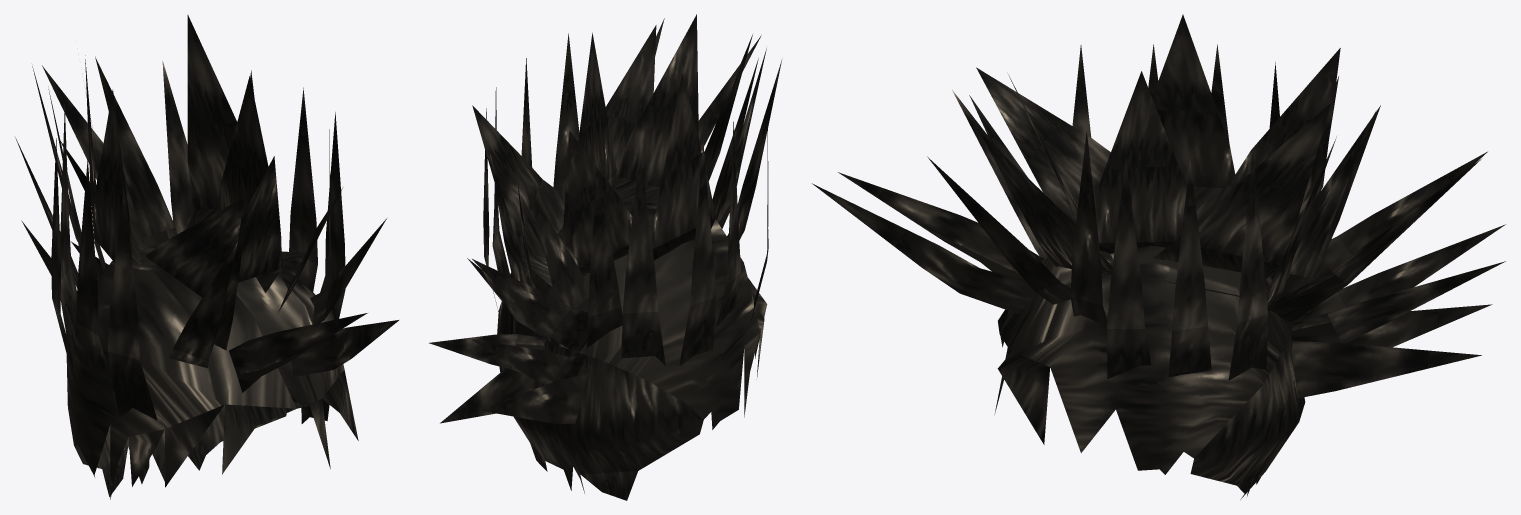
The model's file is hair man 4.FBX.
The picture shows the model from 3 angles, left to right: view 1: azimuth 30°, elevation 25°; view 2: azimuth 150°, elevation 25°; view 3: azimuth 270°, elevation 25°; orthographic projection. The views are drawn at different scales.
Visible parts, largest first — view 1: Hair man 004; view 2: Hair man 004; view 3: Hair man 004.
Boxes of the visible parts, bbox=[...] form: Hair man 004: bbox=[15, 14, 398, 499]; Hair man 004: bbox=[429, 14, 782, 500]; Hair man 004: bbox=[812, 14, 1505, 499].
Bounding box in the file's own units: 42.55 × 72.67 × 104.
